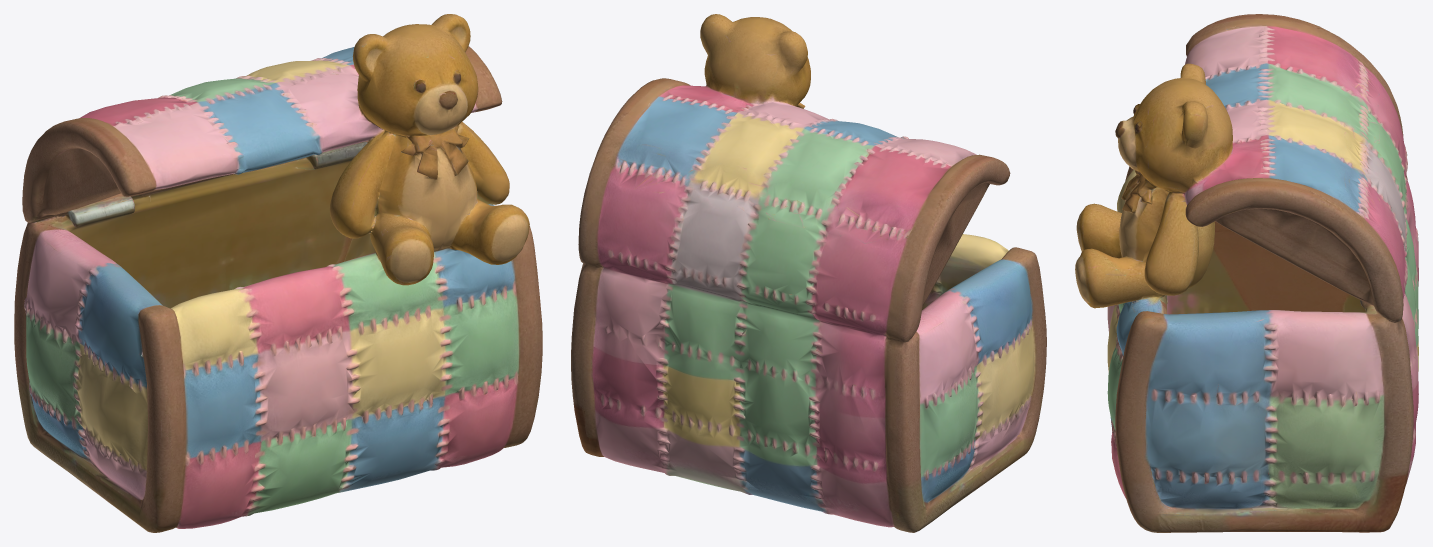
Rendered from chest-plush.glb.
3 renders of one model, left to right at view 1: azimuth 30°, elevation 25°; view 2: azimuth 150°, elevation 25°; view 3: azimuth 270°, elevation 25°, orthographic. The views are drawn at different scales.
Parts seen in each view (by area): view 1: Mesh_0; view 2: Mesh_0; view 3: Mesh_0.
Part boxes in pixels (left/top/right/bottom): Mesh_0: left=14, top=14, right=542, bottom=532; Mesh_0: left=571, top=14, right=1046, bottom=532; Mesh_0: left=1075, top=14, right=1418, bottom=532.
Bounding box in the file's own units: 1.89 × 1.89 × 1.42.
1 material, 1 textured.
